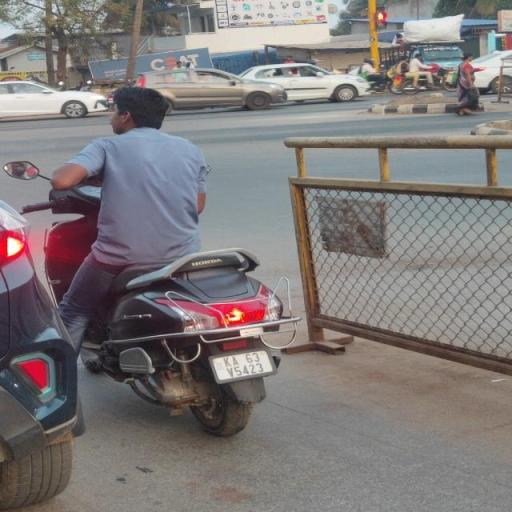bike: (6, 84, 310, 438)
numberplate: (209, 340, 276, 384)
withouthelmet: (112, 90, 168, 129)
